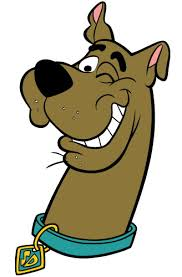scooby: (20, 1, 172, 258)
